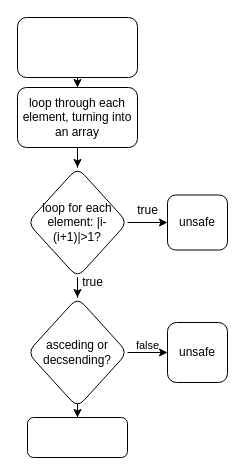
This 245x475 diagram has some shape labels left out. Here are the shapes that lost their labels. From the top down, the centre of each, then its label:
the point at 77,47: add each new line to array list until end
the point at 77,437: safeReports += 1
